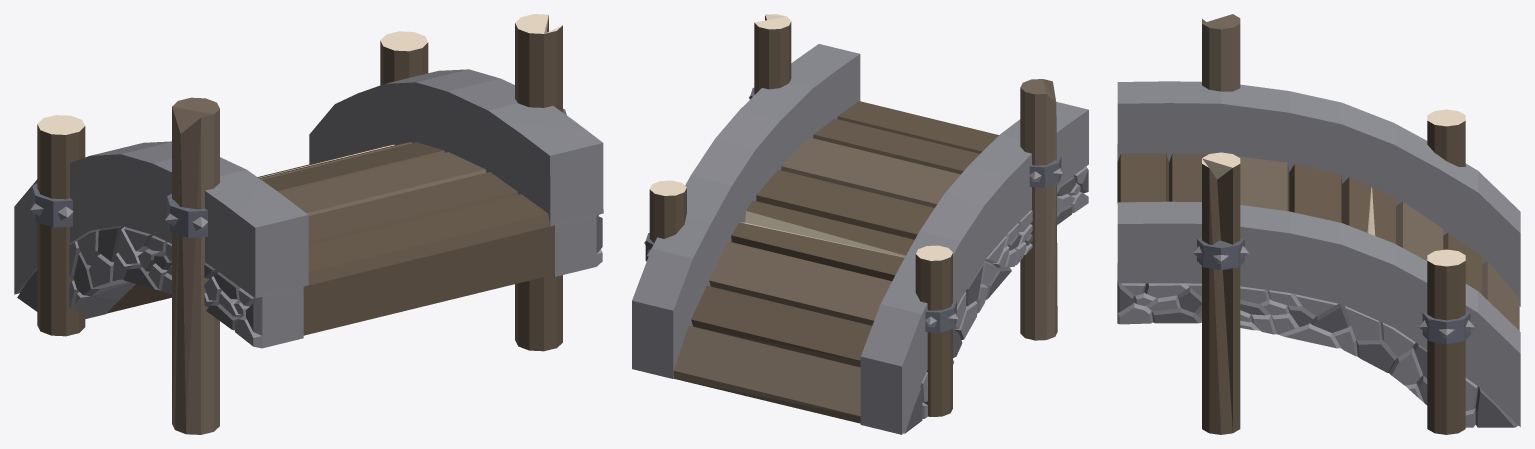
File: bridge.fbx
The picture shows the model from 3 angles, left to right: view 1: azimuth 30°, elevation 25°; view 2: azimuth 150°, elevation 25°; view 3: azimuth 270°, elevation 25°; orthographic projection. The views are drawn at different scales.
Parts seen in each view (by area): view 1: bridge_corner1; view 2: bridge_corner1; view 3: bridge_corner1.
Boxes of the visible parts, x1,y1,x2,y2 form: bridge_corner1: [14, 14, 603, 434]; bridge_corner1: [632, 14, 1088, 434]; bridge_corner1: [1117, 14, 1520, 434].
Size of the model in its own units: 569 by 427 by 586.
